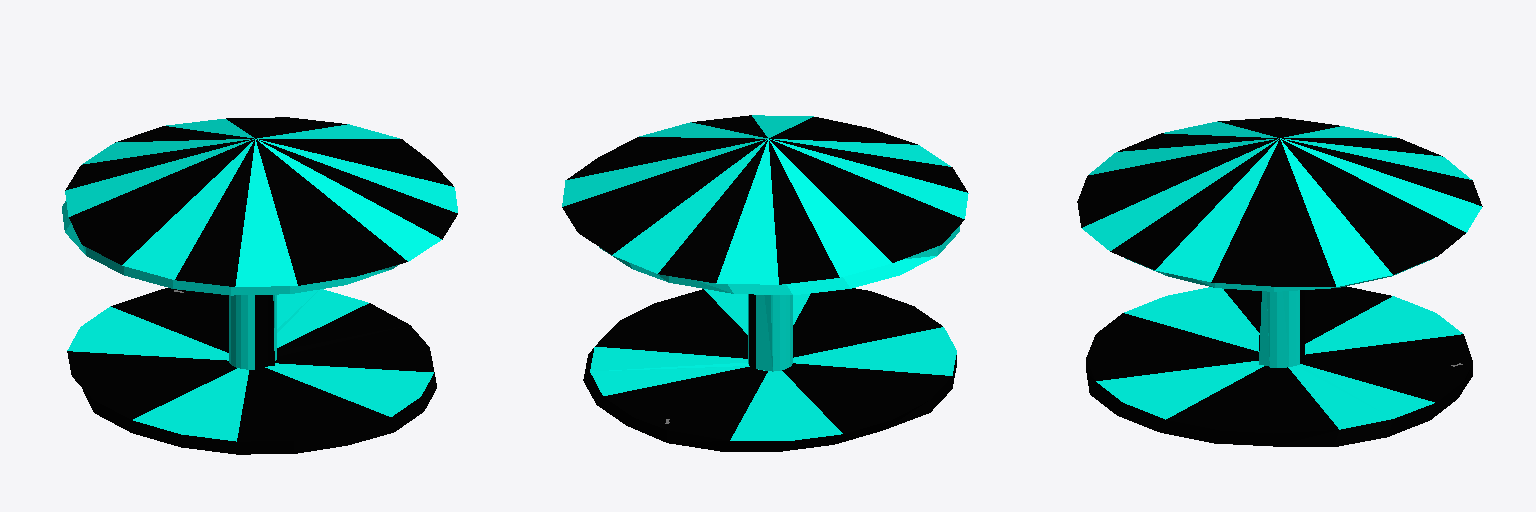
The model's file is carousel.obj.
The picture shows the model from 3 angles: view 1: azimuth 30°, elevation 25°; view 2: azimuth 150°, elevation 25°; view 3: azimuth 270°, elevation 25°; orthographic projection.
Parts seen in each view (by area): view 1: carrosel_estrutura; view 2: carrosel_estrutura; view 3: carrosel_estrutura.
Boxes of the visible parts, <box> form: carrosel_estrutura: <box>62,117,457,454</box>; carrosel_estrutura: <box>562,115,968,451</box>; carrosel_estrutura: <box>1077,117,1482,446</box>.
Size of the model in its own units: 7.76 by 5 by 7.82.